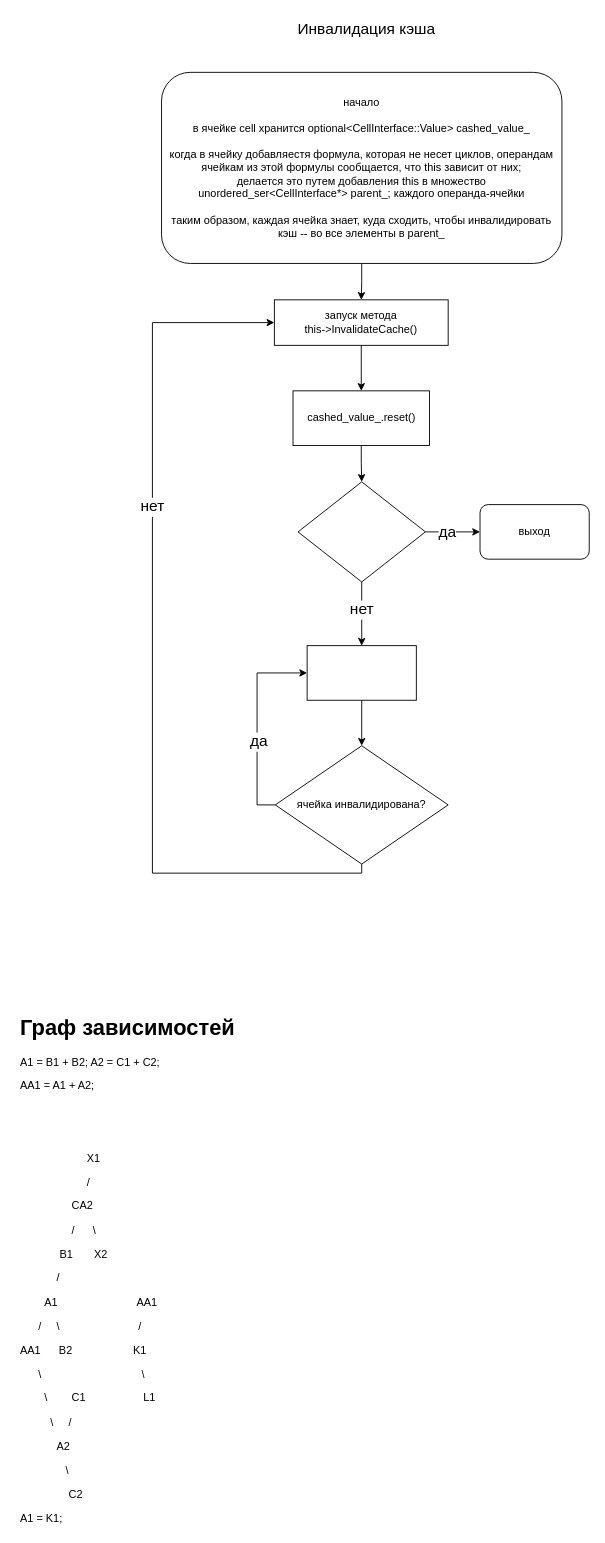
Some shapes in this 605 by 1543 pixel diagram are drawn without their labels. The shapes that lost their labels are listed below. From the top down, each one's centre as x and y in pixels, then its label:
At (x=361, y=531): "parent_ пуст?".
At (x=361, y=672): "взять указатель cell на ячейку из parent_".
